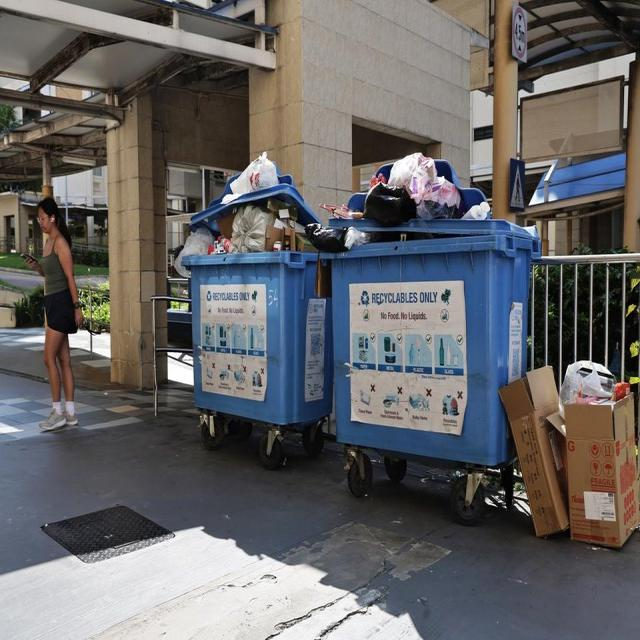bin_empty: (361, 180, 416, 225)
bin_full: (327, 175, 532, 515), (182, 219, 332, 468)
bulk_waste: (497, 367, 570, 538), (563, 393, 638, 546), (264, 224, 296, 252), (216, 210, 237, 243)
normal_waste: (222, 151, 281, 202), (306, 220, 386, 251), (416, 175, 461, 220), (177, 226, 216, 275), (460, 201, 490, 219)
